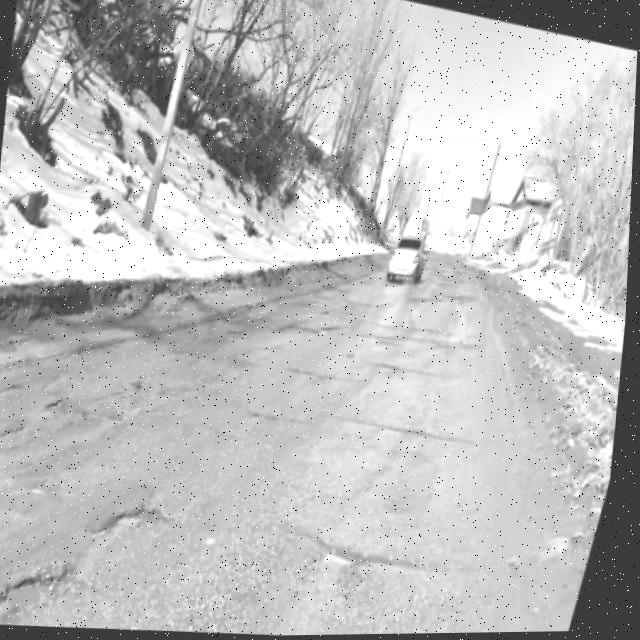Pothole: (0, 546, 86, 623), (105, 480, 176, 544), (319, 531, 376, 577)
